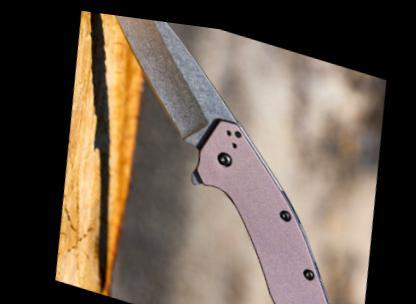knife: (64, 6, 272, 168)
